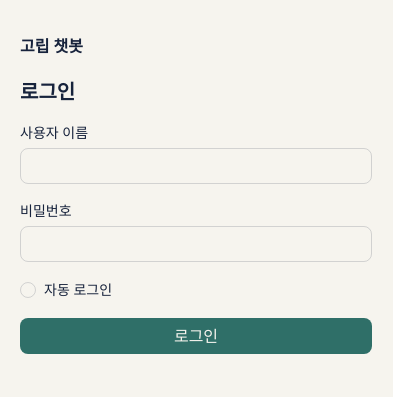
Test: LoginPage › requires username and password before it submits
Check: the heading "로그인" is shown, box x1=20 y1=78 x2=75 y2=105
Click the button "로그인". click: coordinates (196, 336)
box: x1=20 y1=318 x2=372 y2=354
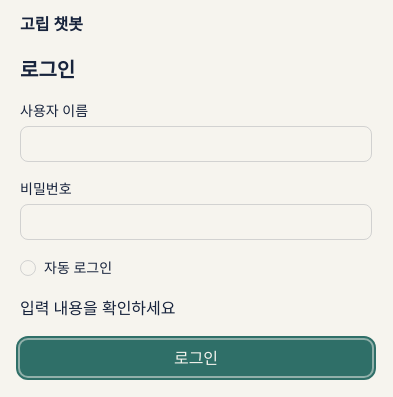
Check: the message reads "입력 내용을 확인하세요", box x1=20 y1=297 x2=176 y2=319
